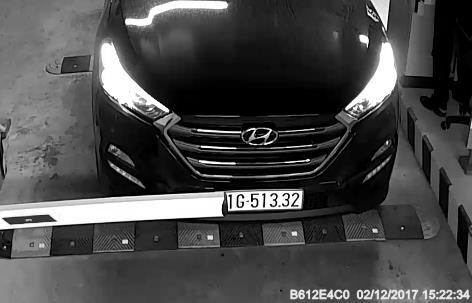License-plate: (199, 181, 315, 223)
